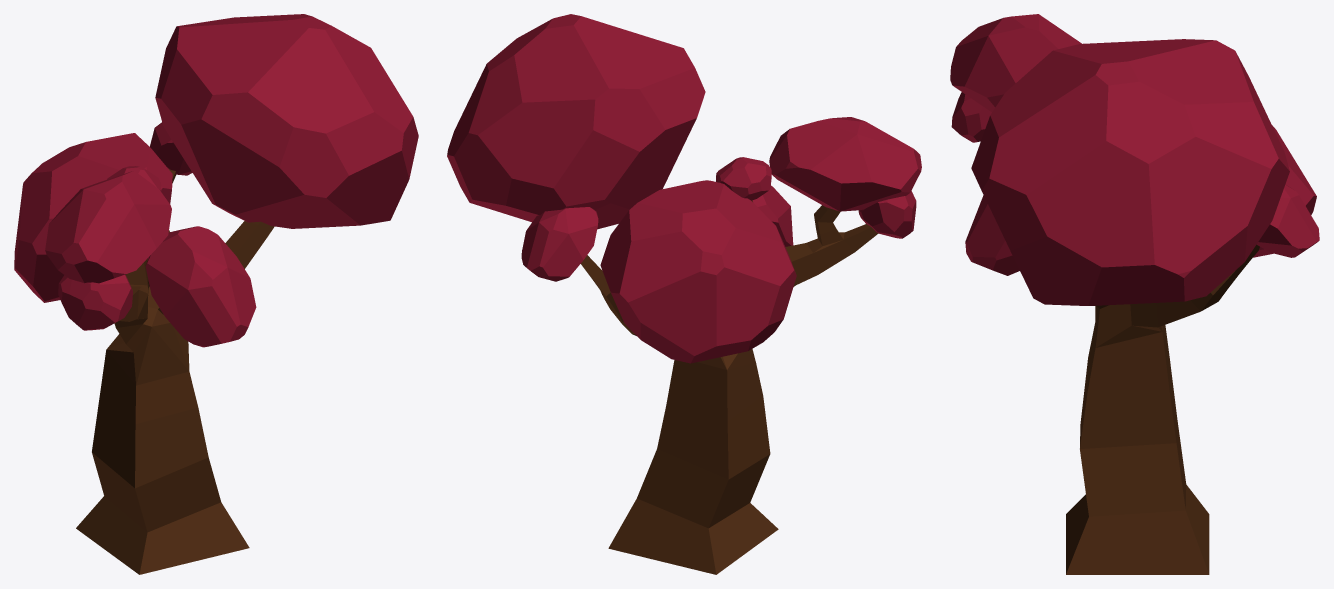
File: red_tree 1.fbx
3 renders of one model, left to right at view 1: azimuth 30°, elevation 25°; view 2: azimuth 150°, elevation 25°; view 3: azimuth 270°, elevation 25°, orthographic. The views are drawn at different scales.
Parts seen in each view (by area): view 1: Icosphere.006, Vert; view 2: Icosphere.006, Vert; view 3: Icosphere.006, Vert.
Boxes of the visible parts, x1,y1,x2,y2 form: Icosphere.006: [14, 14, 418, 347]; Vert: [76, 169, 274, 574]; Icosphere.006: [447, 14, 921, 363]; Vert: [581, 200, 878, 574]; Icosphere.006: [950, 14, 1319, 305]; Vert: [1066, 244, 1259, 574].
Size of the model in its own units: 270 by 315 by 191.
